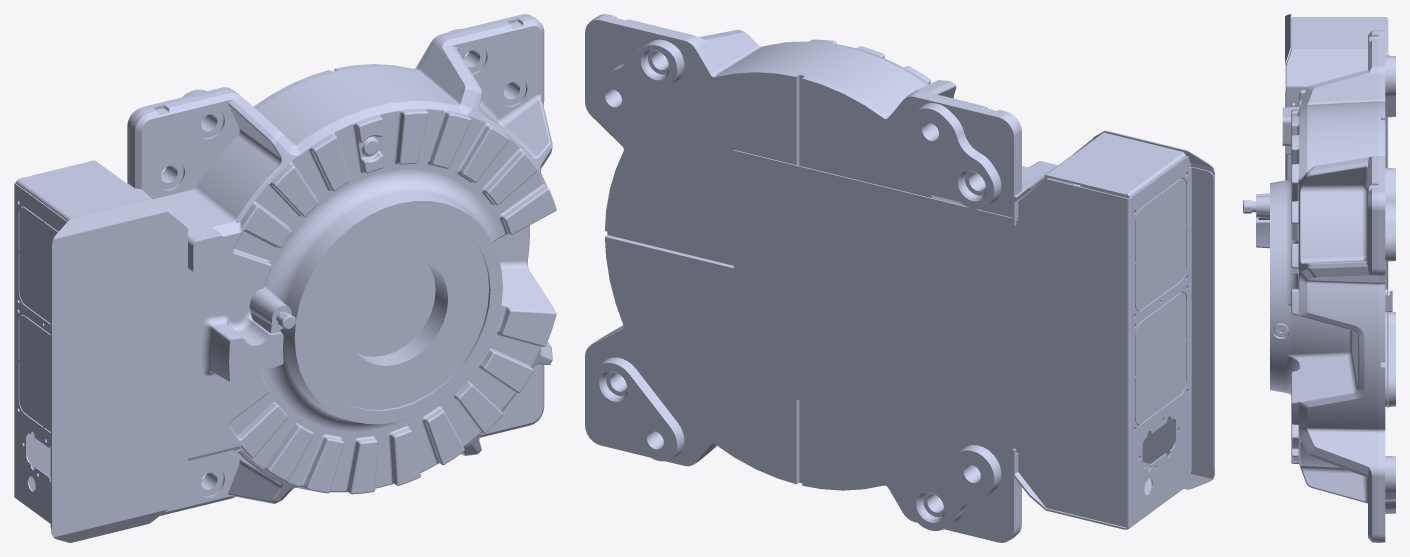
The model's file is IRB460_FOOT.glb.
The picture shows the model from 3 angles, left to right: view 1: azimuth 30°, elevation 25°; view 2: azimuth 150°, elevation 25°; view 3: azimuth 270°, elevation 25°; orthographic projection. The views are drawn at different scales.
Parts seen in each view (by area): view 1: IRB460_FOOT; view 2: IRB460_FOOT; view 3: IRB460_FOOT.
Part boxes in pixels (bbox=[...]): IRB460_FOOT: bbox=[14, 14, 556, 542]; IRB460_FOOT: bbox=[585, 14, 1214, 542]; IRB460_FOOT: bbox=[1243, 14, 1395, 542].
Bounding box in the file's own units: 1.01 × 0.72 × 0.285.
